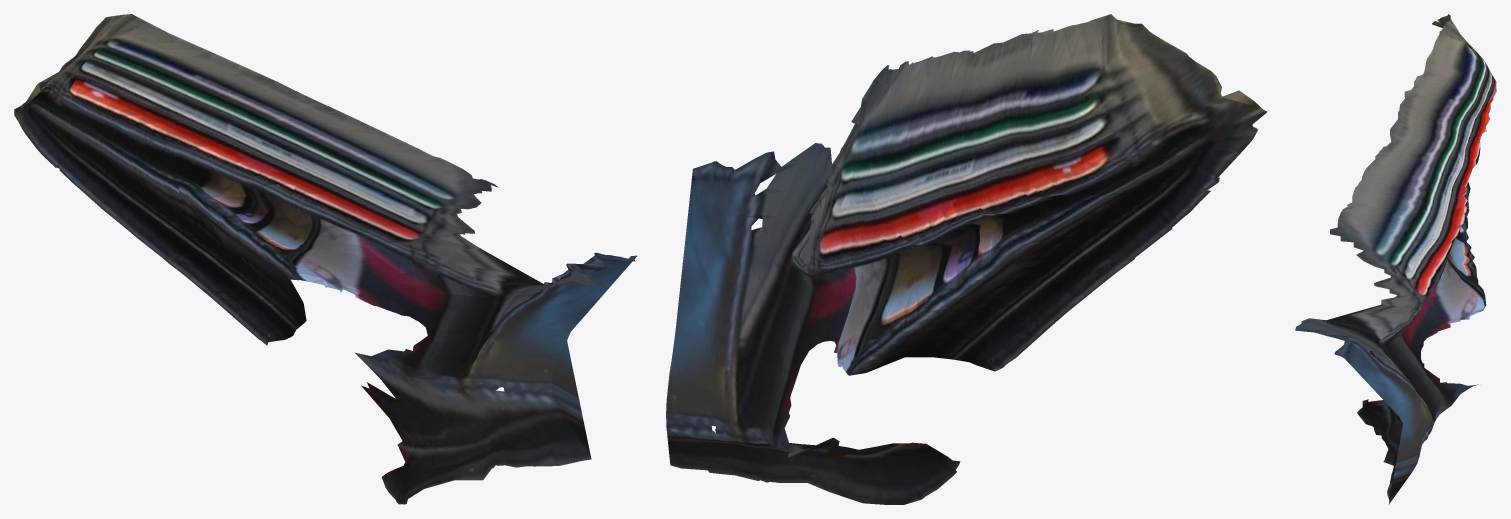
File: observed-surface.glb
3 views of the same model, side by side, from view 1: azimuth 30°, elevation 25°; view 2: azimuth 150°, elevation 25°; view 3: azimuth 270°, elevation 25° (orthographic). The views are drawn at different scales.
Visible parts, largest first — view 1: geometry_0; view 2: geometry_0; view 3: geometry_0.
Boxes of the visible parts, box(x1,y1,x2,y2) form: geometry_0: box(14, 14, 637, 504); geometry_0: box(666, 14, 1266, 504); geometry_0: box(1295, 14, 1496, 504).
Size of the model in its own units: 0.5594 by 0.4999 by 0.2637.
1 material, 1 textured.
